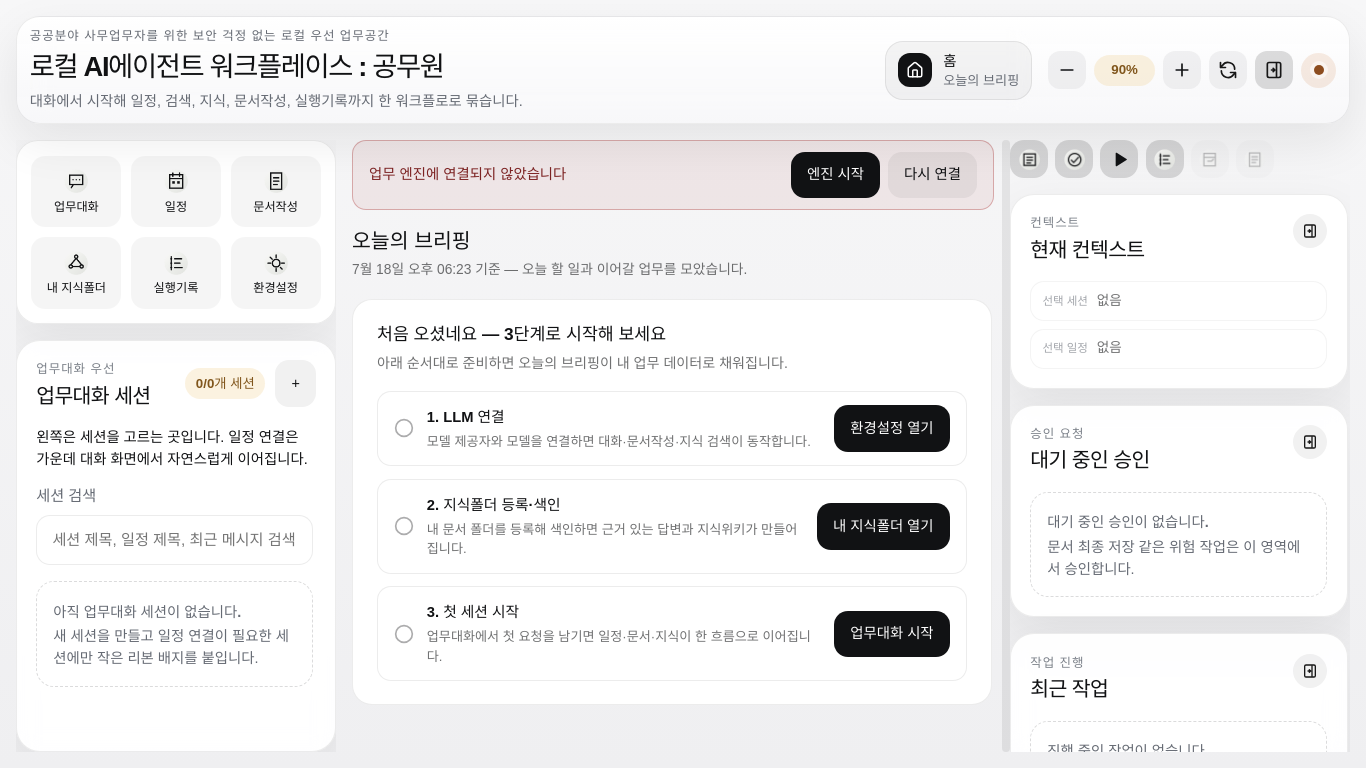
Test: chat composer idle hint (W6) › shows today's deterministic example and fills the composer on click without sending
The image size is (1366, 768).
Step 1. Click the button "업무대화" → click(76, 192), box [31,156,121,227]
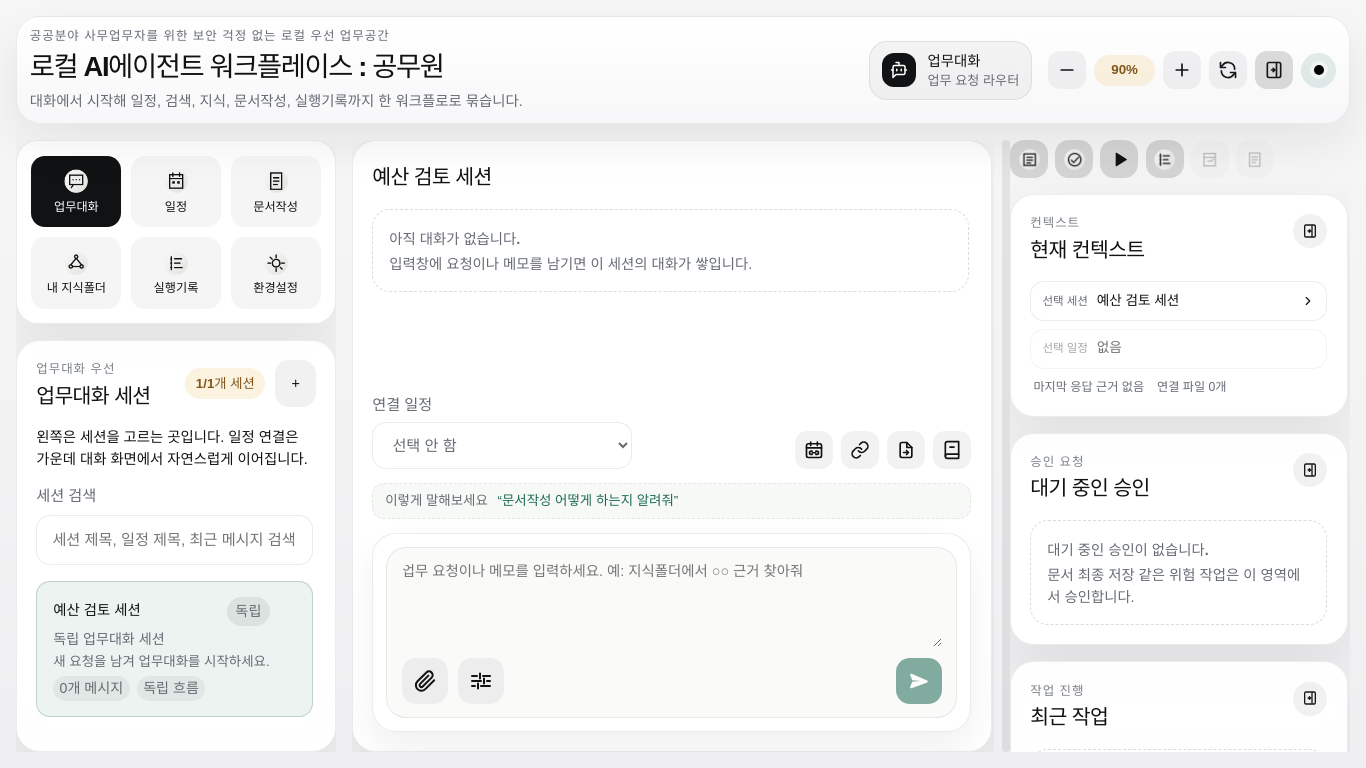
Now the element with test id "chat-workspace" is shown, box [372,209,971,732]
Now the element with test id "chat-composer-hint" shows "이렇게 말해보세요", box [385,493,488,508]
Now the element with test id "chat-composer-hint" shows "문서작성 어떻게 하는지 알려줘"
Step 2. Click the button with test id "chat-composer-hint-example" → click(588, 501), box [497,491,678,511]
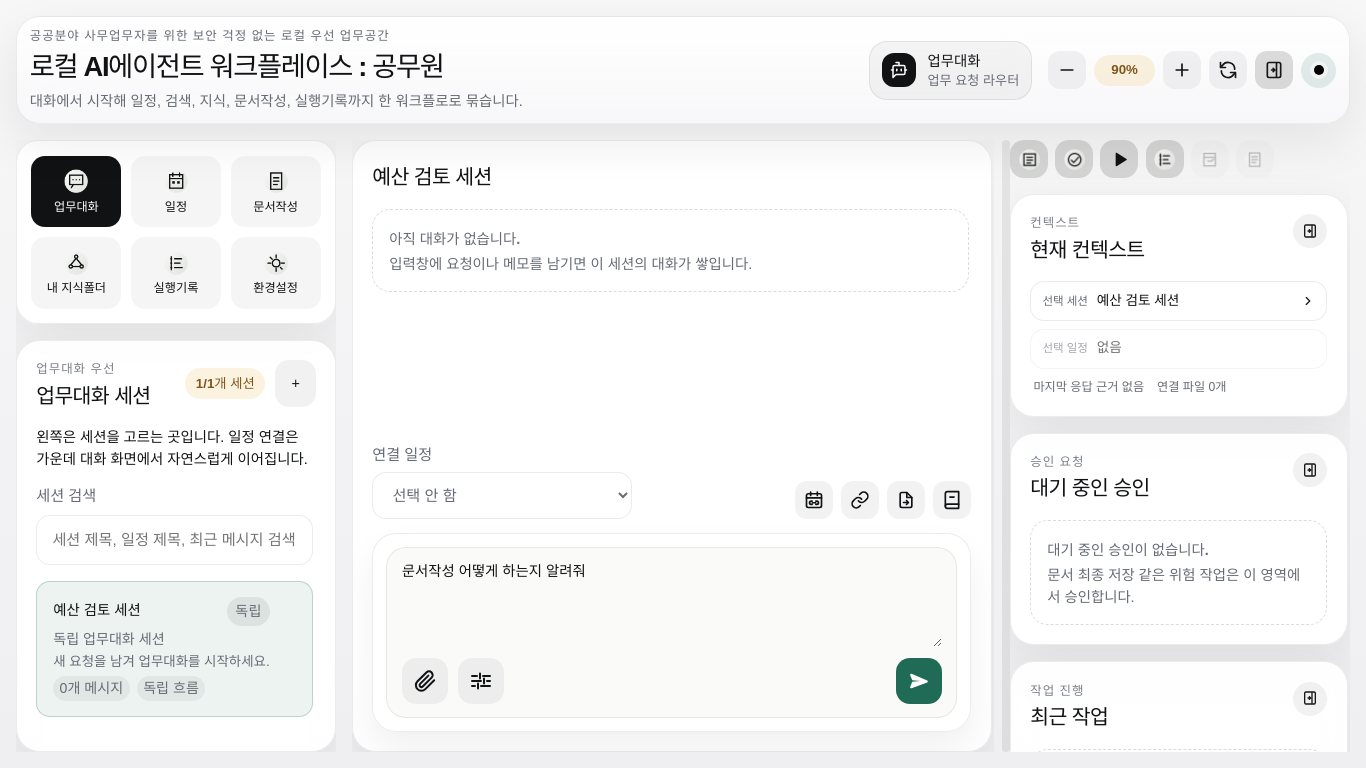
Now the text box with test id "chat-composer-input" holds "문서작성 어떻게 하는지 알려줘", box [402,561,942,647]
Now the element with test id "chat-composer-hint" is gone
